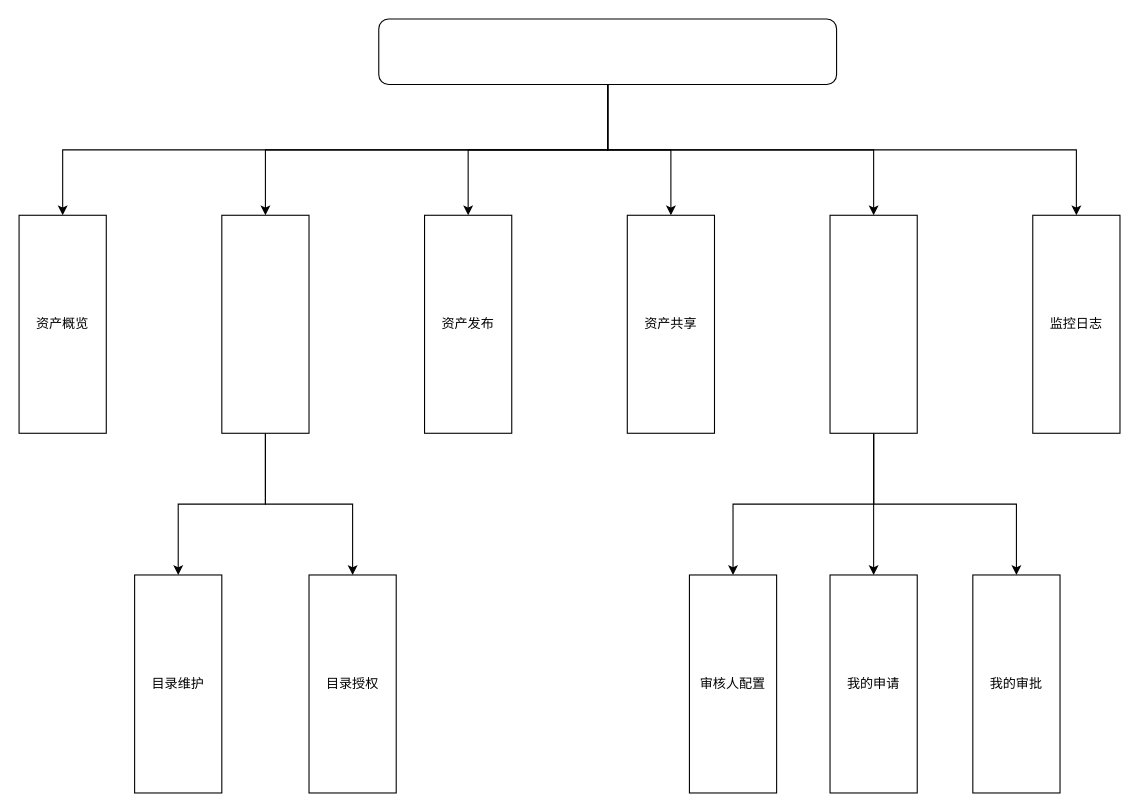
This 1139x812 diagram has some shape labels left out. Each missing label, with the centre of its shape:
审批中心: the point at 873,323
总体功能设计: the point at 607,51
资产目录: the point at 265,323
